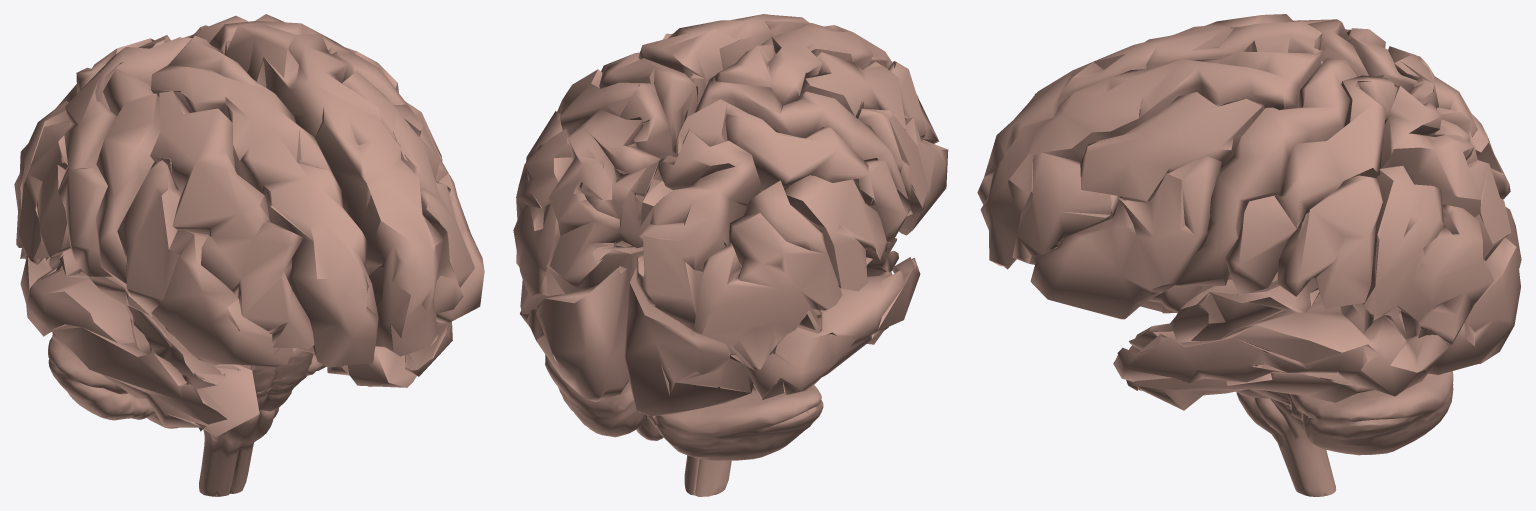
Rendered from explorar-brain.glb.
3 views of the same model, side by side, from view 1: azimuth 30°, elevation 25°; view 2: azimuth 150°, elevation 25°; view 3: azimuth 270°, elevation 25° (orthographic). The views are drawn at different scales.
Parts seen in each view (by area): view 1: brain__hemisferio_derecho, brain__hemisferio_izquierdo, brain__tronco, brain__cerebelo; view 2: brain__hemisferio_derecho, brain__hemisferio_izquierdo, brain__cerebelo, brain__tronco; view 3: brain__hemisferio_izquierdo, brain__hemisferio_derecho, brain__cerebelo, brain__tronco.
Part boxes in pixels (box(x1,y1,x2,y2)): brain__hemisferio_derecho: box(14, 35, 378, 436); brain__hemisferio_izquierdo: box(184, 14, 484, 387); brain__tronco: box(199, 348, 313, 496); brain__cerebelo: box(48, 337, 326, 428); brain__hemisferio_derecho: box(624, 23, 948, 415); brain__hemisferio_izquierdo: box(513, 14, 809, 401); brain__cerebelo: box(545, 354, 823, 460); brain__tronco: box(684, 455, 731, 496); brain__hemisferio_izquierdo: box(980, 51, 1520, 410); brain__hemisferio_derecho: box(977, 14, 1521, 313); brain__cerebelo: box(1288, 371, 1453, 455); brain__tronco: box(1236, 388, 1336, 496).
Size of the model in its own units: 0.1385 by 0.1662 by 0.181.
